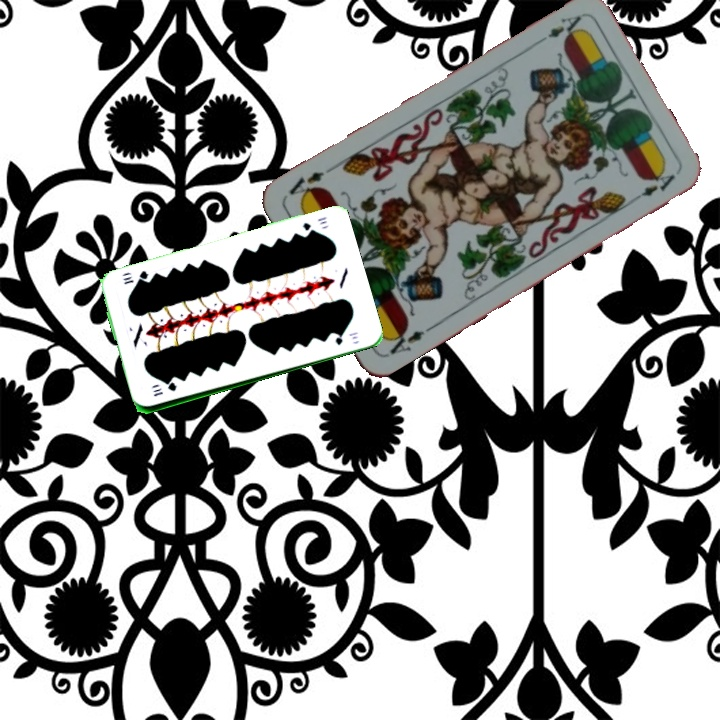EA: (531, 11, 586, 48), (380, 323, 433, 361)
G10: (298, 212, 329, 235), (149, 380, 179, 399)
